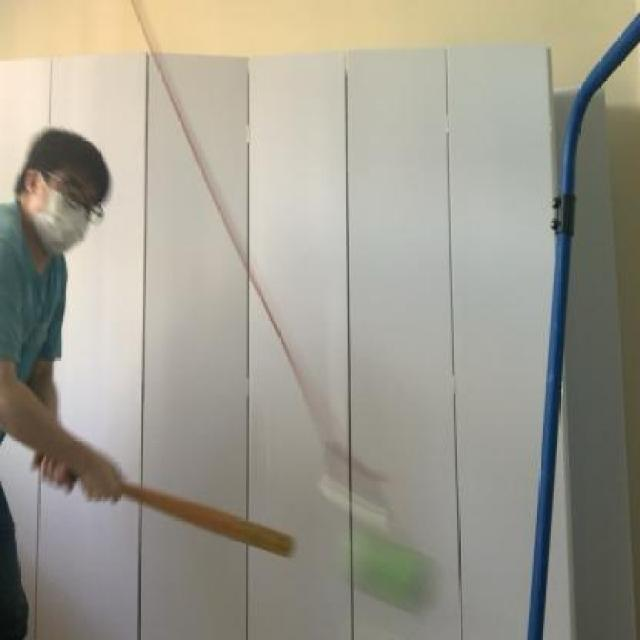baseball: (332, 520, 440, 623)
